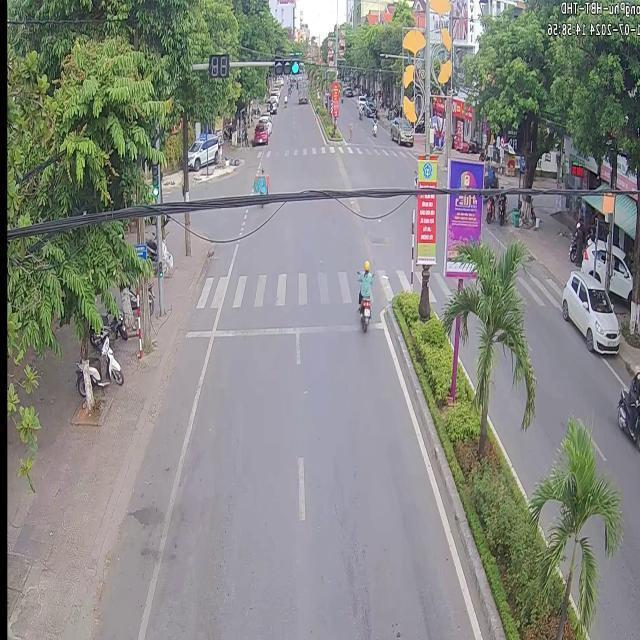green_light: (272, 56, 298, 74)
motobike: (359, 267, 370, 322), (255, 168, 268, 199)
stop_line: (182, 319, 381, 336)
yellow_light: (149, 156, 159, 190)
